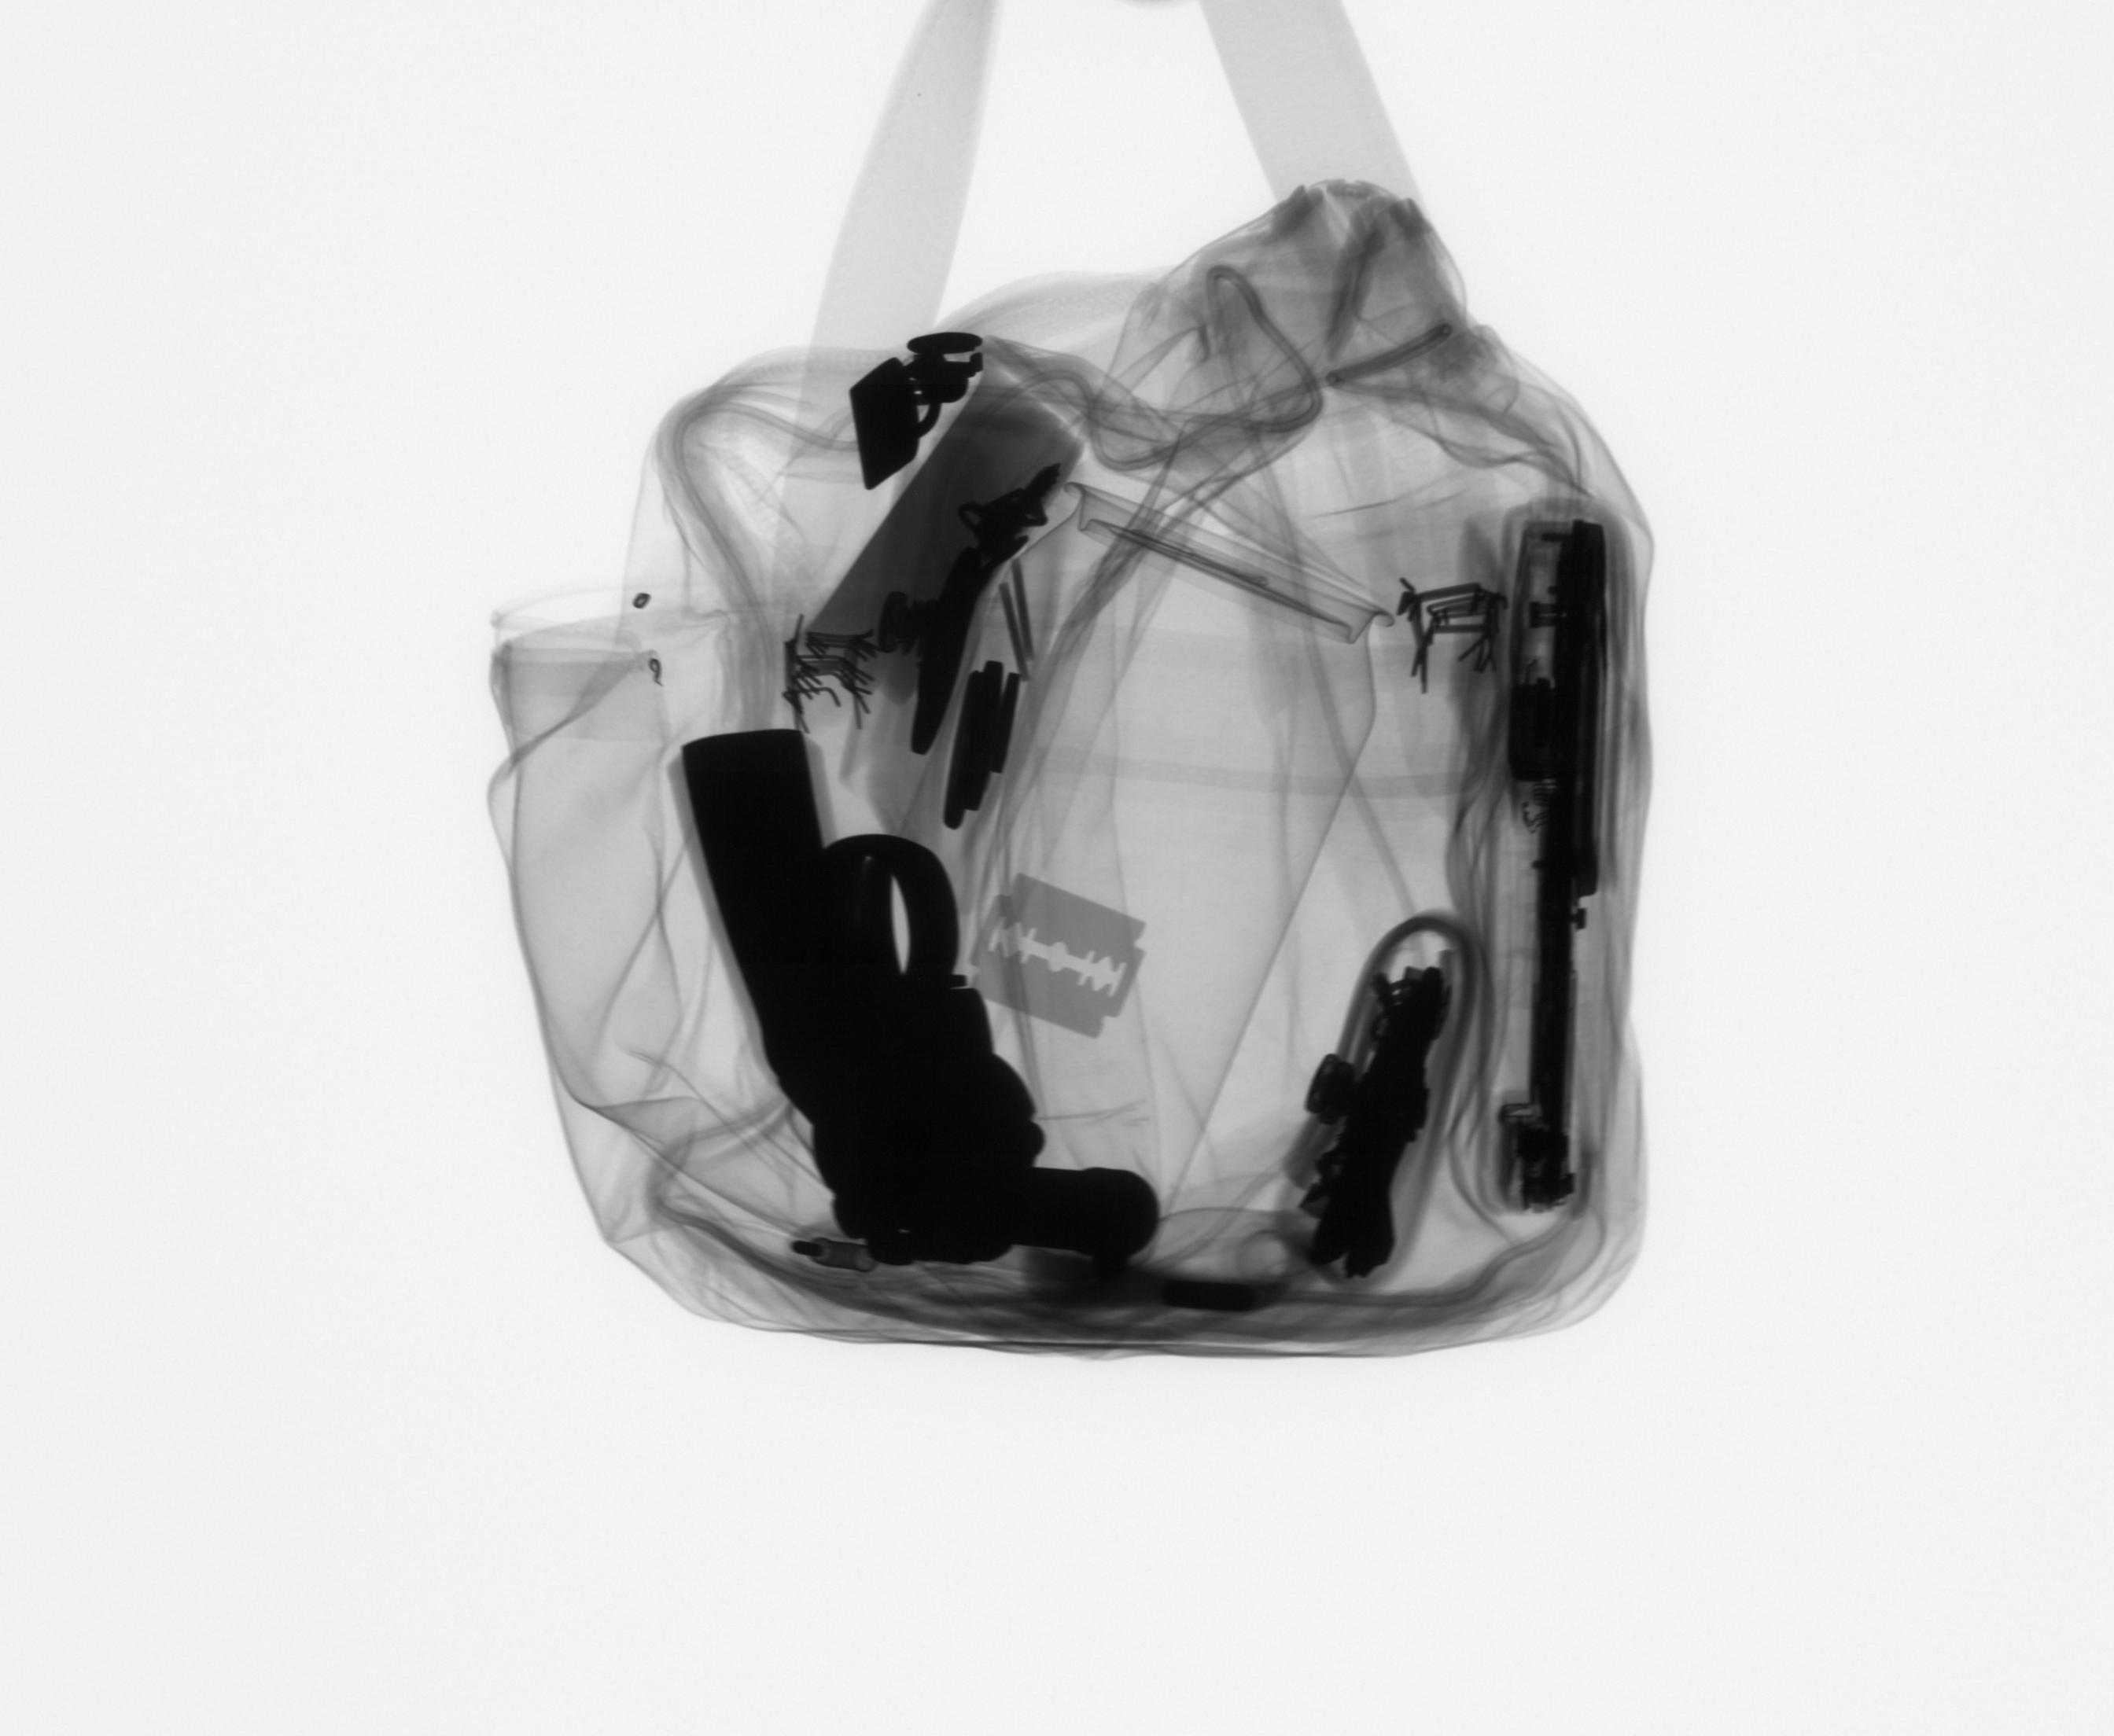Handgun: (660, 723, 1182, 1278)
RazorBlade: (959, 858, 1152, 1058)
